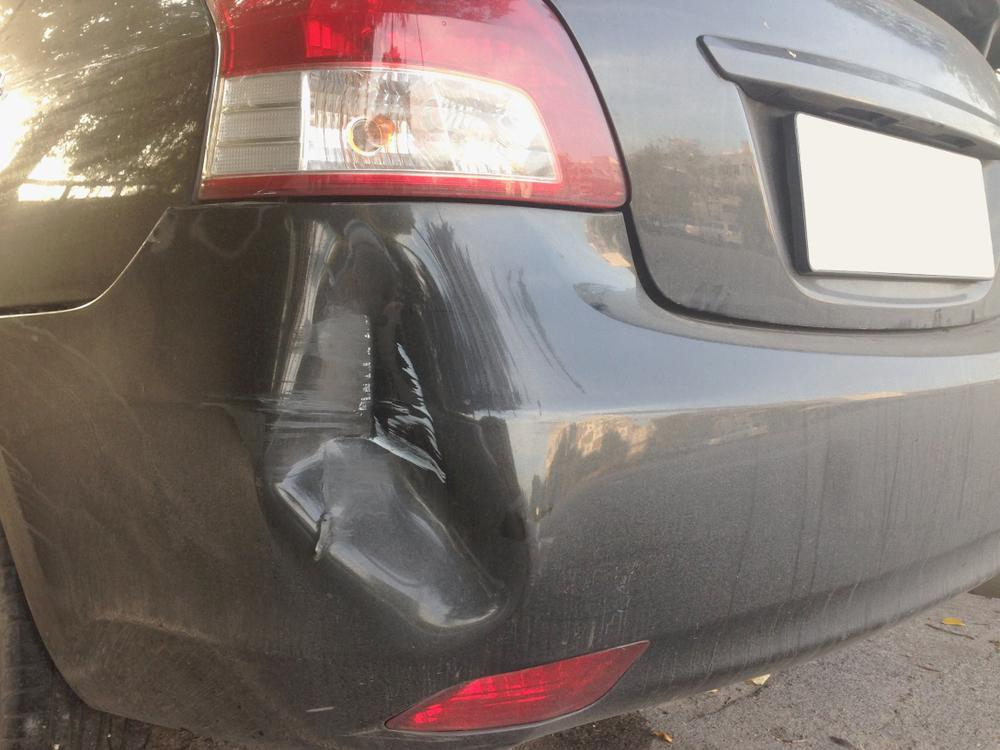dent: (267, 212, 538, 621)
